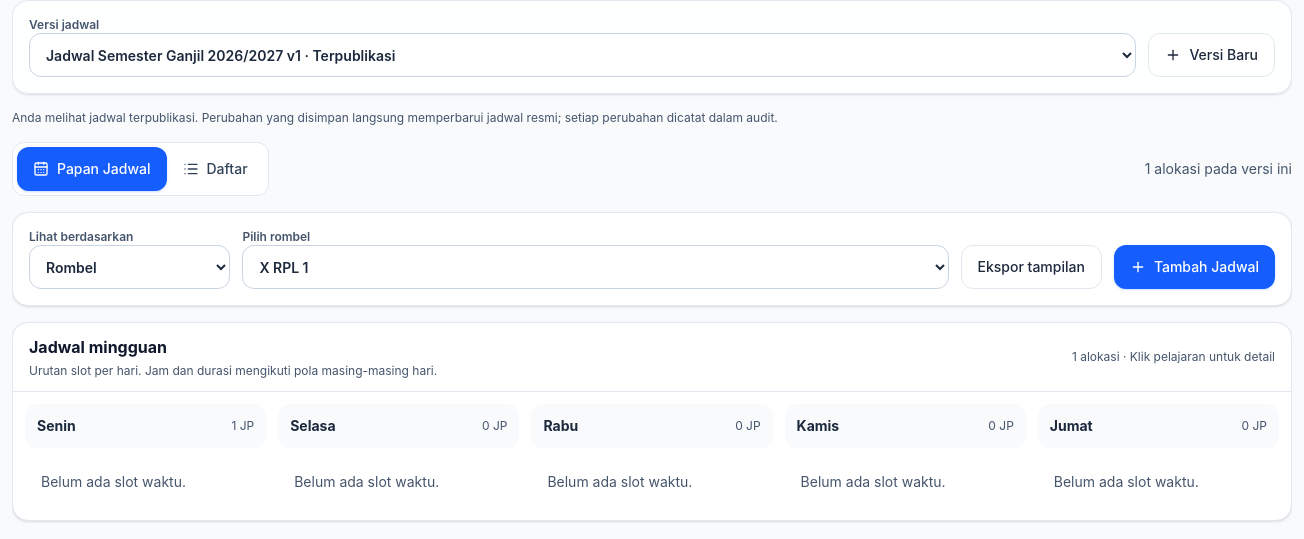
Test case: Phase 10 Presentation Views › MasterScheduleView › renders master schedule entries with conflict and version controls
What coordinates should you click on to do the following:
click the button "Daftar"
I would click on:
 (215, 169)
Its box is [166,147,264,191].
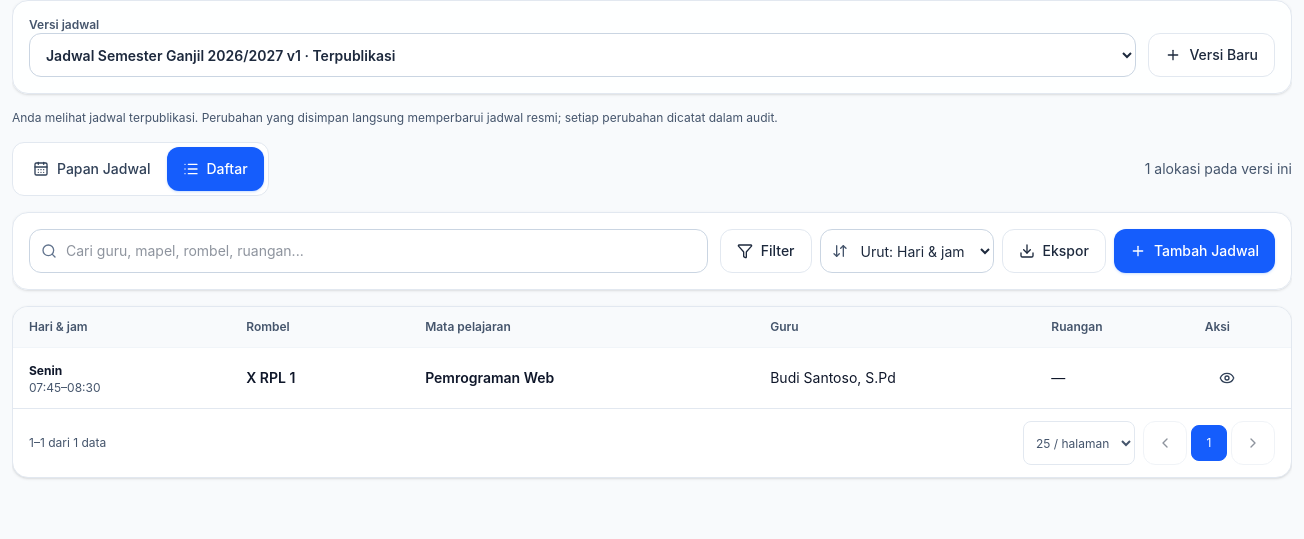
Expected: the text "Pemrograman Web" is shown, [425,369,554,386]
Expected: the text "X RPL 1" is shown, [230,348,409,408]
Expected: the text "Budi Santoso, S.Pd" is shown, [754,348,1035,408]
